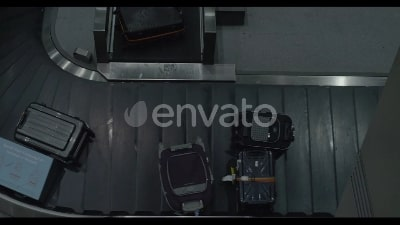baggage: (9, 101, 92, 165), (153, 138, 217, 215), (230, 110, 303, 152), (233, 145, 277, 210), (111, 10, 189, 44)
